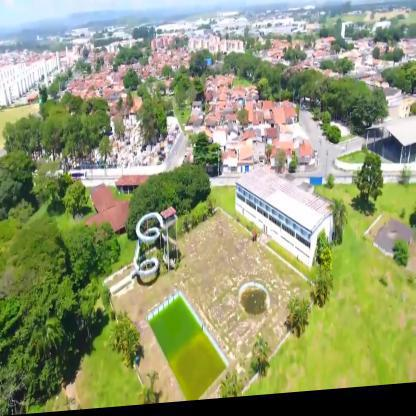agua: (150, 312, 199, 368), (179, 343, 219, 383), (240, 284, 271, 318)
